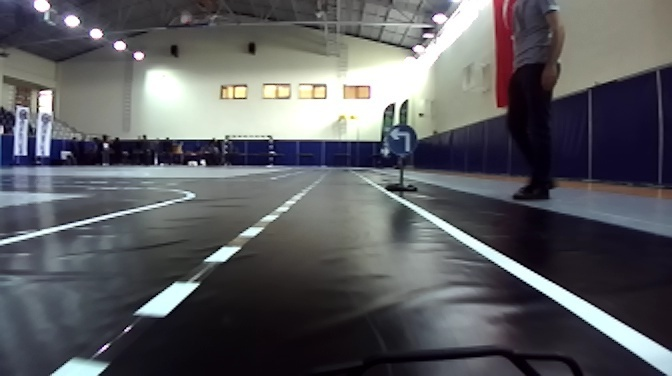sola_donus: (388, 126, 419, 153)
